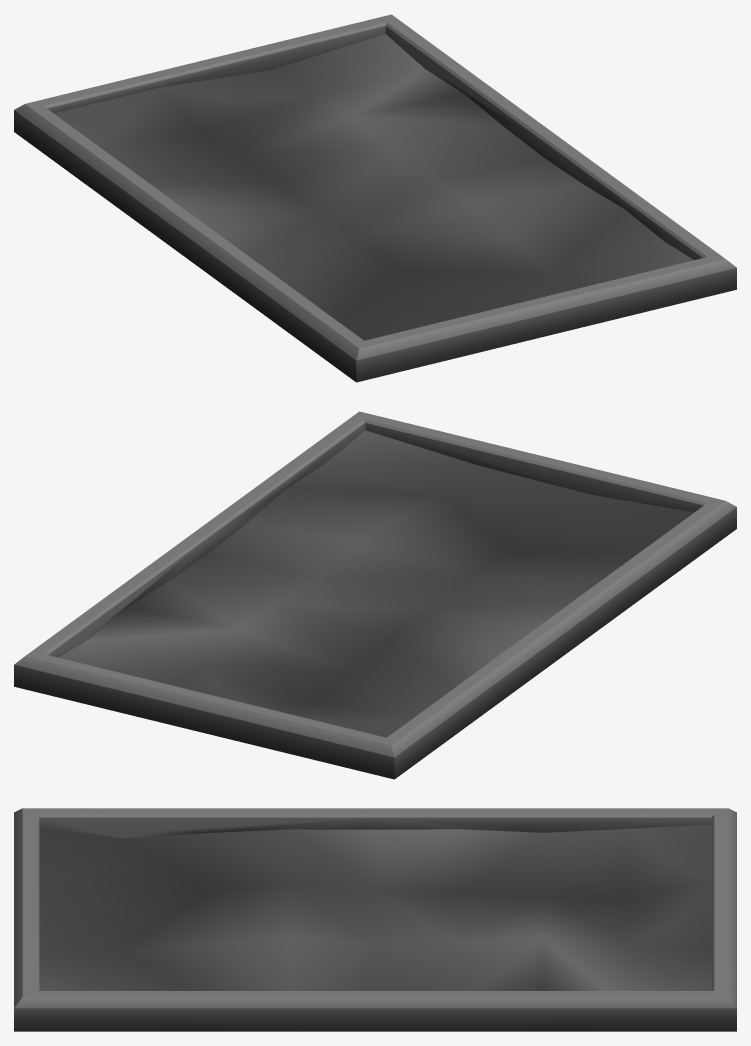
The model's file is FarmPlotSmall2_MESH_01.fbx.
The picture shows the model from 3 angles, top to bottom: view 1: azimuth 30°, elevation 25°; view 2: azimuth 150°, elevation 25°; view 3: azimuth 270°, elevation 25°; orthographic projection. The views are drawn at different scales.
Parts seen in each view (by area): view 1: FarmPlotSmall2_MESH_01; view 2: FarmPlotSmall2_MESH_01; view 3: FarmPlotSmall2_MESH_01.
Part boxes in pixels (x1=…): FarmPlotSmall2_MESH_01: x1=14, y1=14, x2=736, y2=382; FarmPlotSmall2_MESH_01: x1=14, y1=411, x2=736, y2=779; FarmPlotSmall2_MESH_01: x1=14, y1=808, x2=736, y2=1031.
Bounding box in the file's own units: 786 × 57.78 × 1224.
